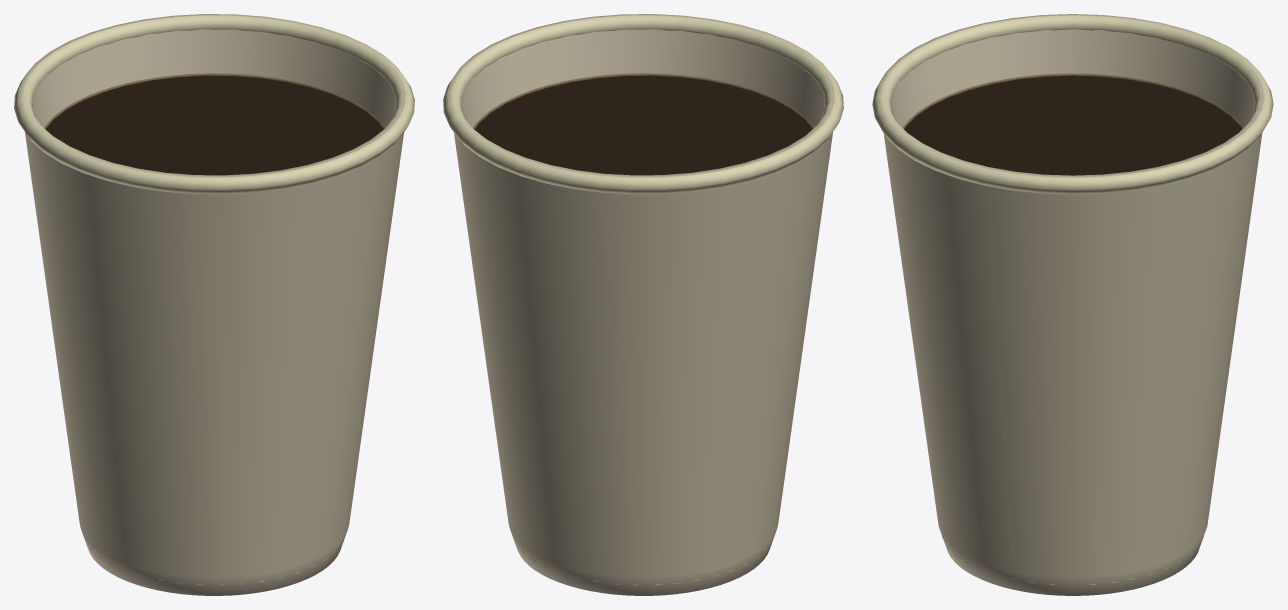
File: coffee.glb
The picture shows the model from 3 angles, left to right: view 1: azimuth 30°, elevation 25°; view 2: azimuth 150°, elevation 25°; view 3: azimuth 270°, elevation 25°; orthographic projection.
Visible parts, largest first — view 1: coffee; view 2: coffee; view 3: coffee.
Part boxes in pixels (box(x1,y1,x2,y2)): coffee: box(14, 14, 414, 595); coffee: box(443, 14, 843, 595); coffee: box(872, 14, 1273, 595).
Size of the model in its own units: 0.844 by 1.03 by 0.844.
